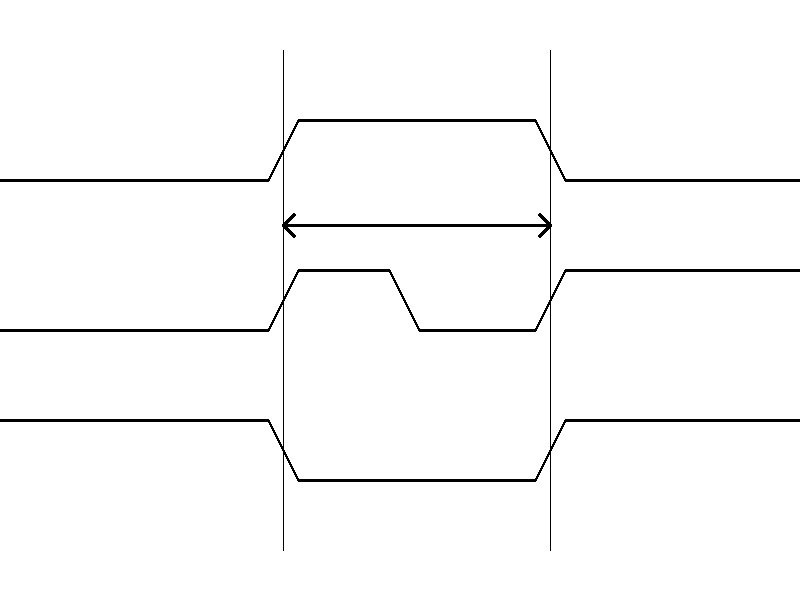double_arrow: (283, 210, 550, 240)
